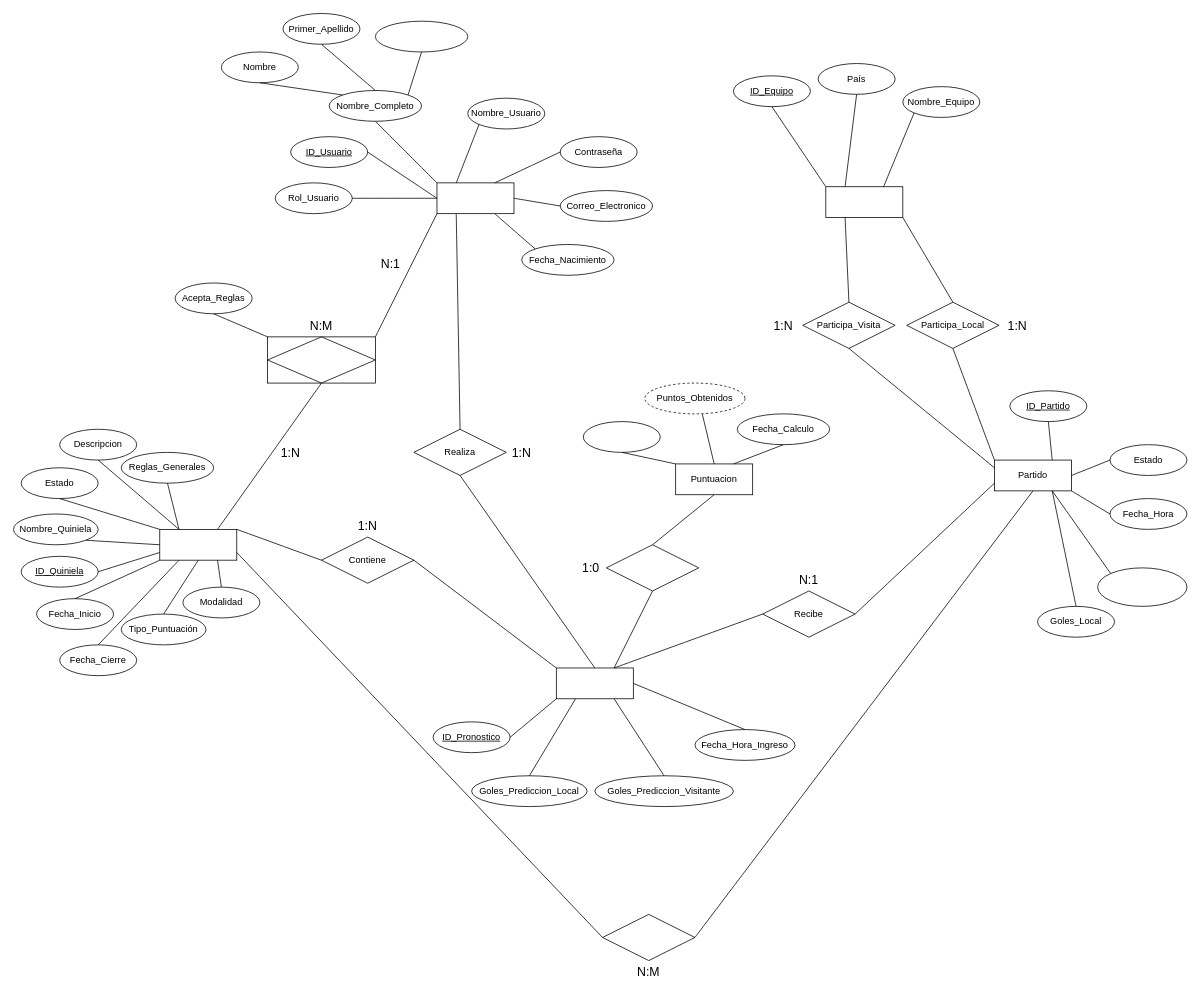
Some shapes in this 1200 by 997 pixel diagram are drawn without their labels. The centre of each missing label's shape, as x and y in pixels:
"Equipo" goes at point 864,202.
"Genera" goes at point 652,567.
"Goles_Visitante" goes at point 1142,586.
"ID_Puntuacion" goes at point 621,436.
"Incluye" goes at point 648,937.
"Inscripción" goes at point 321,359.
"Pronostico" goes at point 594,683.
"Quiniela" goes at point 198,544.
"Segundo_Apellido" goes at point 421,36.
"Usuario" goes at point 475,198.
